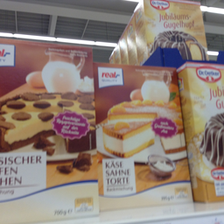cake: (1, 38, 98, 214), (92, 61, 193, 206), (136, 1, 209, 64)
